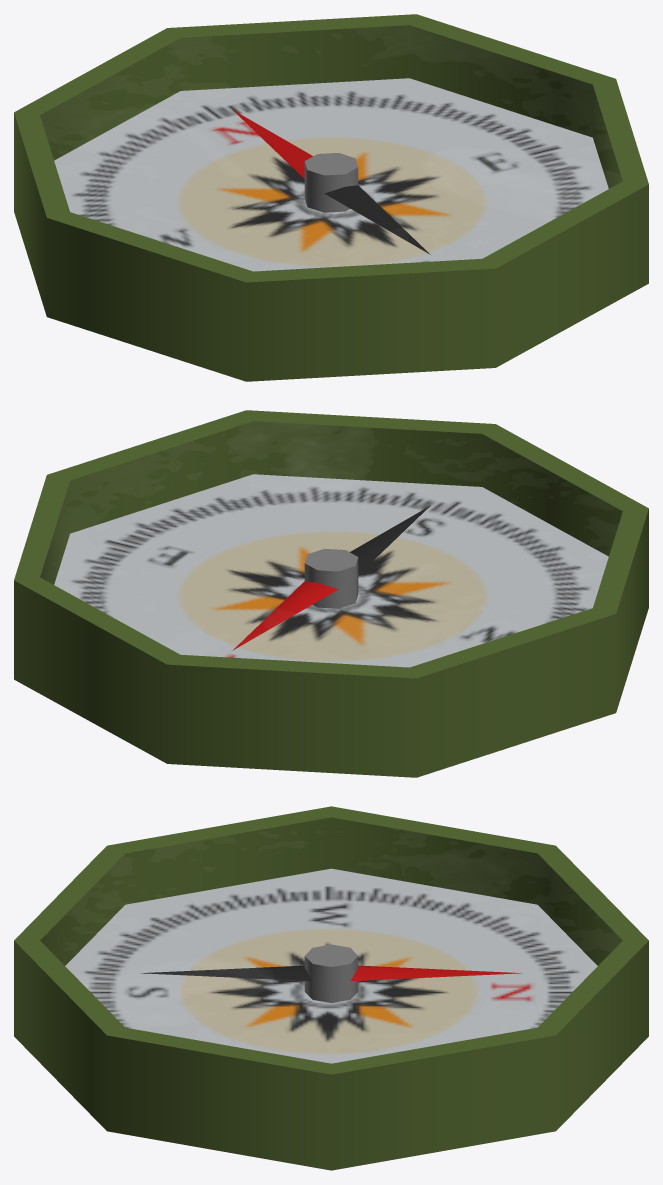
The model's file is compass.obj.
3 views of the same model, one above another, from view 1: azimuth 30°, elevation 25°; view 2: azimuth 150°, elevation 25°; view 3: azimuth 270°, elevation 25° (orthographic). The views are drawn at different scales.
Parts seen in each view (by area): view 1: Cylinder_Cylinder, Needle_Cylinder.001; view 2: Cylinder_Cylinder, Needle_Cylinder.001; view 3: Cylinder_Cylinder, Needle_Cylinder.001.
Boxes of the visible parts, x1=… form: Cylinder_Cylinder: x1=14, y1=14, x2=648, y2=381; Needle_Cylinder.001: x1=232, y1=109, x2=430, y2=254; Cylinder_Cylinder: x1=14, y1=410, x2=648, y2=777; Needle_Cylinder.001: x1=232, y1=505, x2=430, y2=650; Cylinder_Cylinder: x1=14, y1=806, x2=648, y2=1170; Needle_Cylinder.001: x1=141, y1=944, x2=521, y2=1002.
Size of the model in its own units: 0.0762 by 0.0127 by 0.0762.
Materials: 2 (2 with a texture image).
